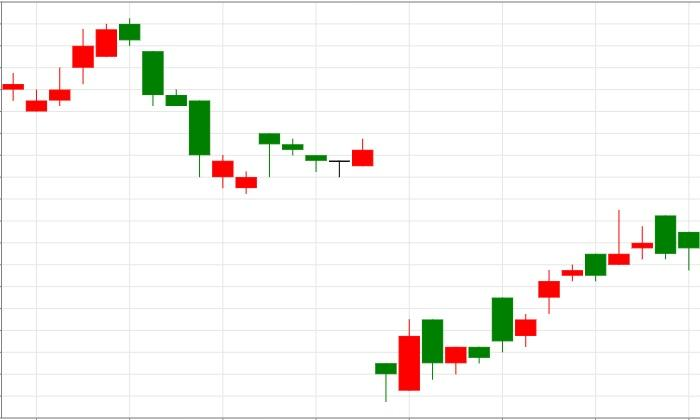bullish_engulfing_rise: (259, 132, 421, 402)
